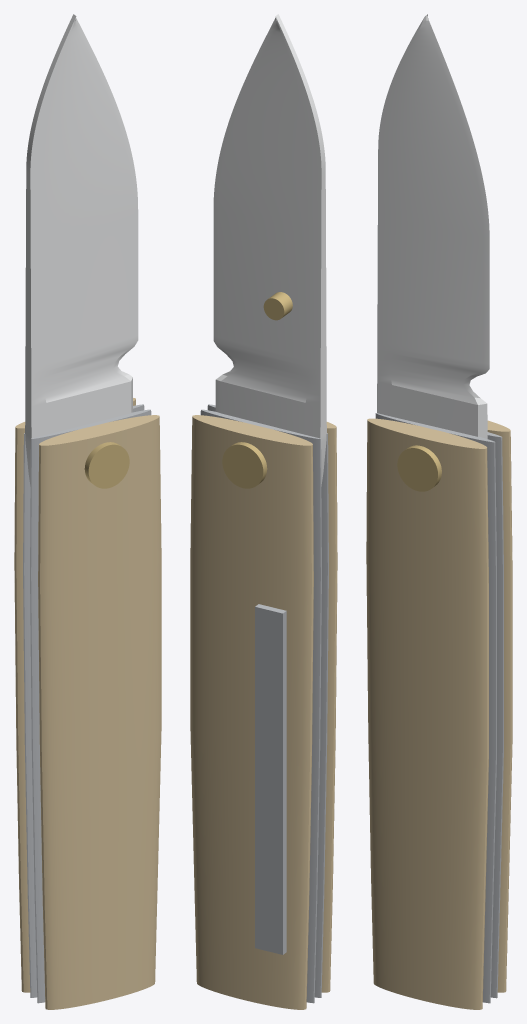
The model's file is pocket.glb.
3 views of the same model, side by side, from view 1: azimuth 30°, elevation 25°; view 2: azimuth 150°, elevation 25°; view 3: azimuth 330°, elevation 25° (orthographic).
Visible parts, largest first — view 1: pocket_sc_b, pocket_blade, pocket_lin_b, pocket_sc_a, pocket_lin_a, pocket_pivot; view 2: pocket_sc_a, pocket_blade, pocket_clip, pocket_lin_a, pocket_sc_b, pocket_lin_b, pocket_pivot, pocket_stud; view 3: pocket_sc_b, pocket_blade, pocket_sc_a, pocket_lin_b, pocket_lin_a, pocket_pivot.
Boxes of the visible parts, x1,y1,x2,y2 form: pocket_sc_b: [38, 415, 161, 1009]; pocket_blade: [25, 14, 138, 486]; pocket_lin_b: [30, 409, 151, 1003]; pocket_sc_a: [14, 398, 135, 992]; pocket_lin_a: [23, 404, 144, 997]; pocket_pivot: [84, 442, 129, 488]; pocket_sc_a: [190, 415, 313, 1009]; pocket_blade: [213, 14, 326, 486]; pocket_clip: [255, 604, 286, 954]; pocket_lin_a: [200, 409, 321, 1003]; pocket_sc_b: [321, 422, 337, 992]; pocket_lin_b: [207, 404, 328, 997]; pocket_pivot: [222, 442, 267, 488]; pocket_stud: [263, 292, 292, 320]; pocket_sc_b: [366, 418, 488, 1009]; pocket_blade: [377, 14, 489, 438]; pocket_sc_a: [487, 420, 512, 992]; pocket_lin_b: [375, 413, 496, 1003]; pocket_lin_a: [487, 432, 503, 998]; pocket_pivot: [397, 445, 441, 491].
Bounding box in the file's own units: 0.0264 × 0.2 × 0.0162.
